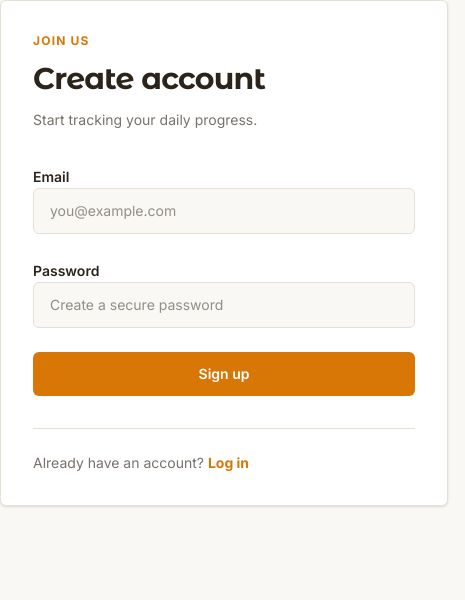
Test: auth flow › shows an error for duplicate signup email
Type "user@example.com" into the field with test id "auth-signup-email".
click(224, 211); type("user@example.com")  # box x1=33 y1=188 x2=415 y2=234
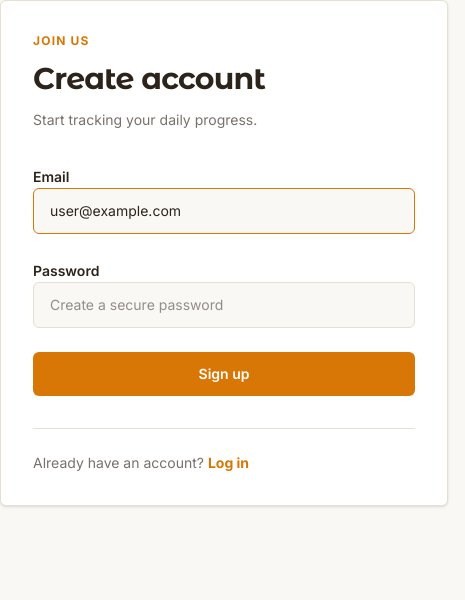
Type "different-pass" into the password field with test id "auth-signup-password".
click(224, 305); type("different-pass")  # box x1=33 y1=282 x2=415 y2=328
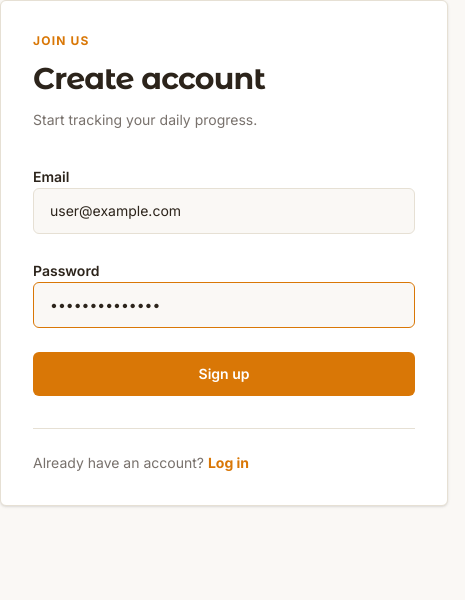
Click the button with test id "auth-signup-submit".
click(224, 374)  # box x1=33 y1=352 x2=415 y2=396
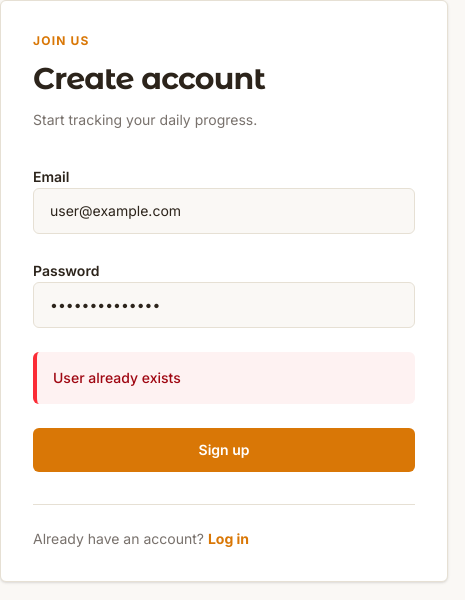
Result: the message reads "User already exists" at x1=53 y1=369 x2=181 y2=386
